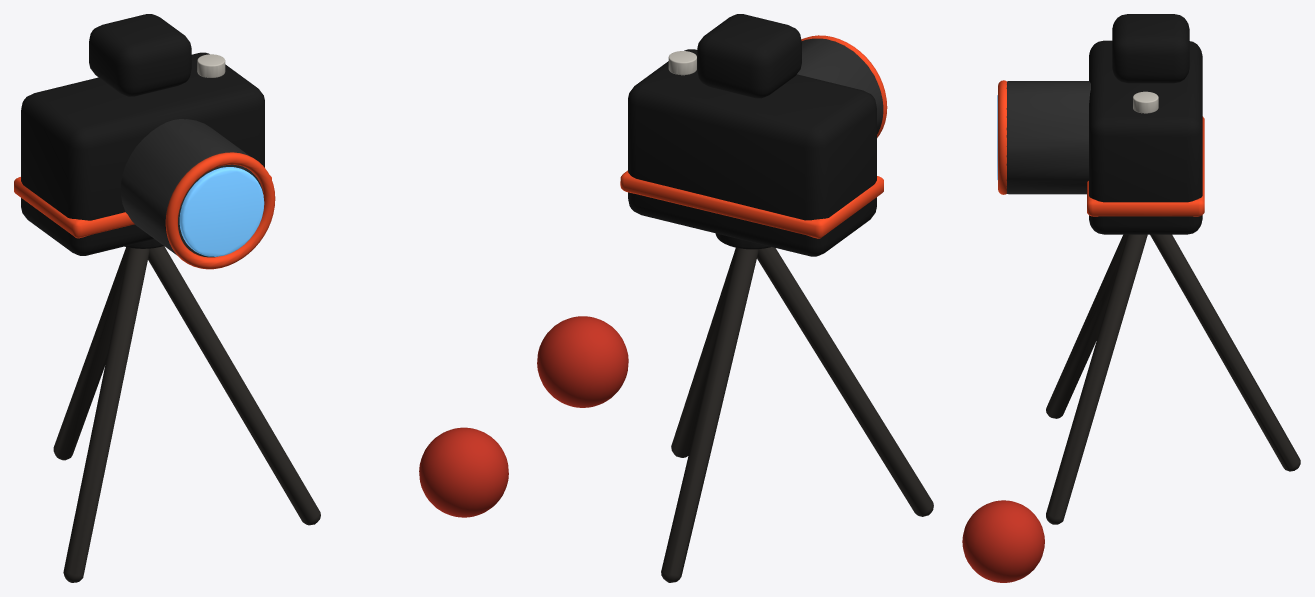
Rendered from camera.glb.
3 renders of one model, left to right at view 1: azimuth 30°, elevation 25°; view 2: azimuth 150°, elevation 25°; view 3: azimuth 270°, elevation 25°, orthographic. The views are drawn at different scales.
Parts seen in each view (by area): view 1: body, barrel, leg, leg.001, hump, ball, play_glass, ring, leg.002, band; view 2: body, leg.002, hump, leg, ball, band, barrel, leg.001, ring, btn; view 3: body, barrel, leg.001, ball, leg.002, hump, leg, band, ring, btn.
Boxes of the visible parts, <box> form: body: <box>21,52,264,255</box>; barrel: <box>121,119,263,257</box>; leg: <box>63,247,149,582</box>; leg.001: <box>148,246,320,525</box>; hump: <box>89,14,191,96</box>; ball: <box>419,427,508,517</box>; play_glass: <box>179,167,264,256</box>; ring: <box>165,152,275,269</box>; leg.002: <box>53,247,128,460</box>; band: <box>14,175,271,238</box>; body: <box>628,49,876,256</box>; leg.002: <box>661,248,758,582</box>; hump: <box>697,14,801,98</box>; leg: <box>757,247,933,516</box>; ball: <box>537,316,628,407</box>; band: <box>620,170,883,238</box>; barrel: <box>797,38,883,134</box>; leg.001: <box>671,247,737,457</box>; ring: <box>801,35,887,137</box>; btn: <box>668,51,696,75</box>; body: <box>1089,40,1202,234</box>; barrel: <box>1006,81,1090,194</box>; leg.001: <box>1046,234,1147,524</box>; ball: <box>962,500,1044,582</box>; leg.002: <box>1150,234,1300,471</box>; hump: <box>1112,14,1189,83</box>; leg: <box>1046,234,1127,418</box>; band: <box>1087,116,1204,216</box>; ring: <box>998,80,1006,194</box>; btn: <box>1133,91,1158,113</box>.
Size of the model in its own units: 1.68 by 1.9 by 1.31.
